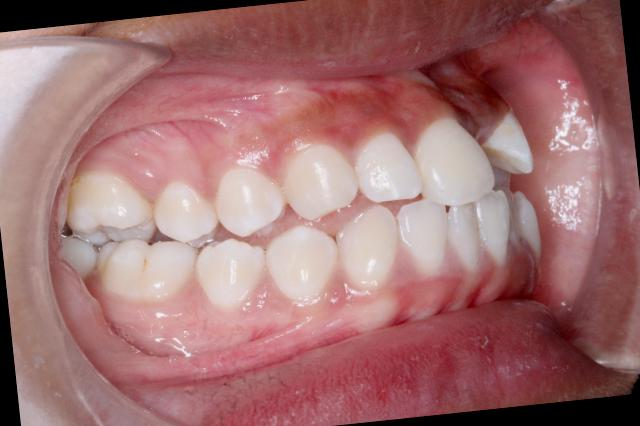canine class I: (252, 131, 408, 319)
molar class III 3/4: (64, 164, 199, 314)
